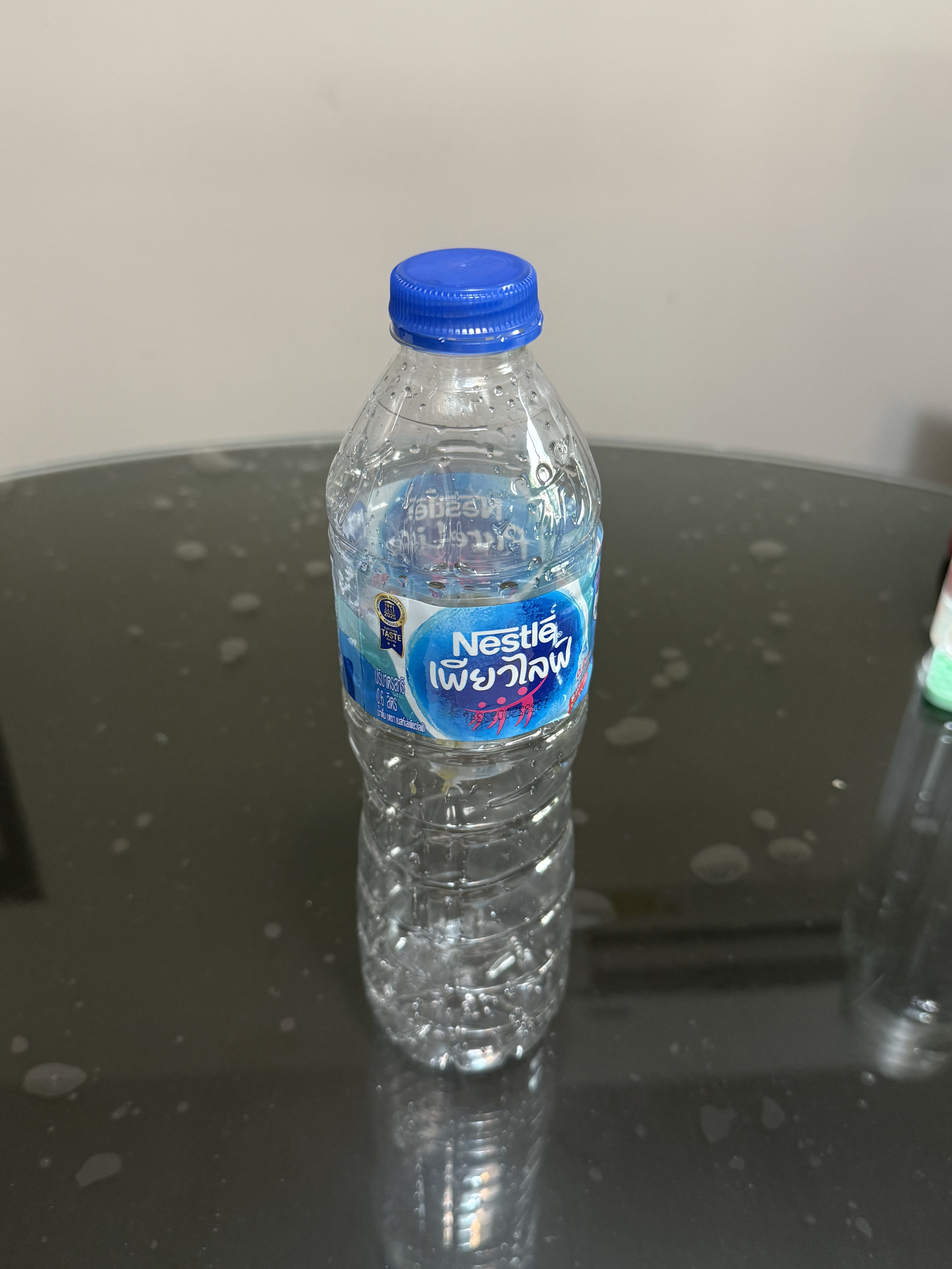closed_cap: (386, 244, 545, 353)
